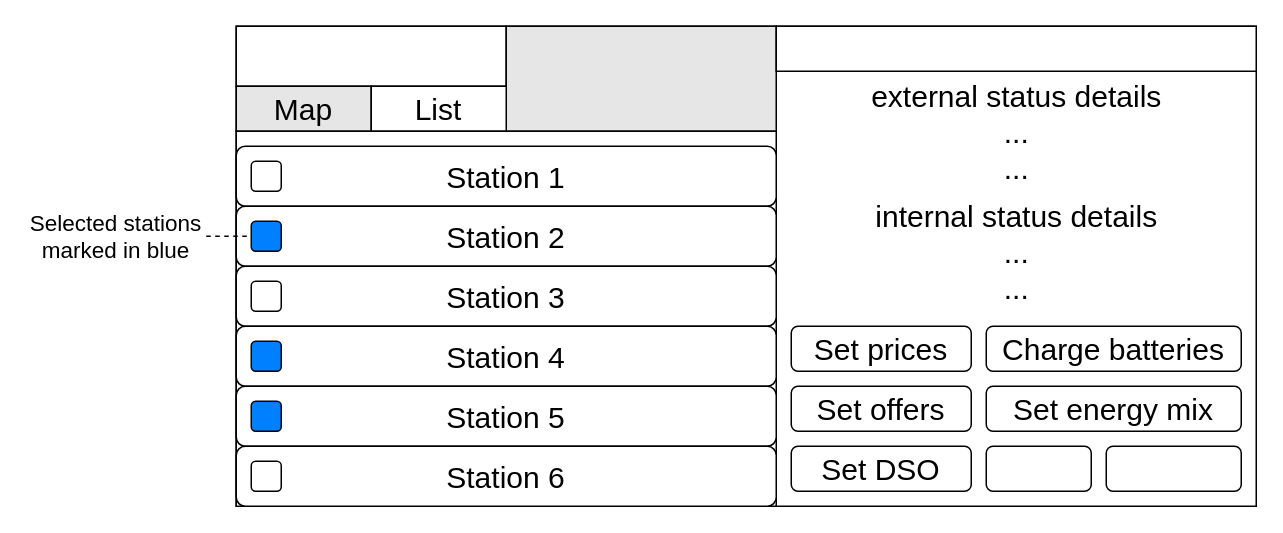
The diagram is 1283 pixels wide and 533 high, and some of its shapes have lost their labels. Here are the shapes that lost their labels. From the top down, the box of each, then its label:
(235, 25, 506, 86): Stations
(775, 25, 1256, 71): Details
(505, 25, 776, 131): DSO
(985, 445, 1091, 491): Auto
(1105, 445, 1241, 491): Remove
